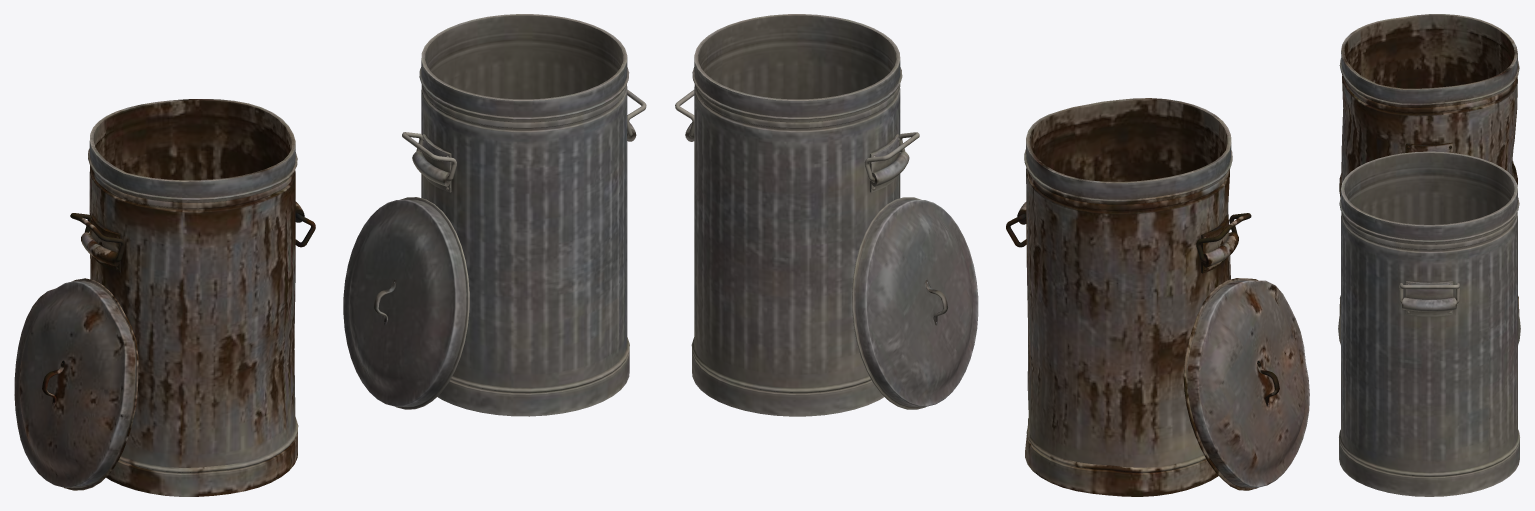
The model's file is metal_trash_can.glb.
3 renders of one model, left to right at view 1: azimuth 30°, elevation 25°; view 2: azimuth 150°, elevation 25°; view 3: azimuth 270°, elevation 25°, orthographic. The views are drawn at different scales.
Visible parts, largest first — view 1: metal_trash_can_handle_left, metal_trash_can_rust; view 2: metal_trash_can_handle_left, metal_trash_can_rust; view 3: metal_trash_can_handle_left, metal_trash_can_rust.
Part boxes in pixels (x1,y1,x2,y2): metal_trash_can_handle_left: (343, 14, 646, 416); metal_trash_can_rust: (14, 99, 315, 496); metal_trash_can_handle_left: (675, 14, 978, 416); metal_trash_can_rust: (1006, 98, 1309, 496); metal_trash_can_handle_left: (1338, 151, 1520, 496); metal_trash_can_rust: (1339, 14, 1519, 315).
Size of the model in its own units: 1.78 by 0.9062 by 0.5563.
2 materials, 2 textured.
